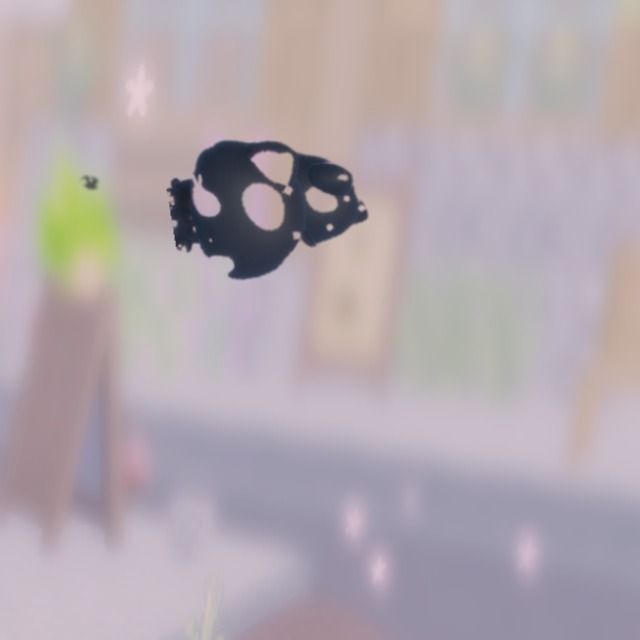urso_preto: (159, 111, 391, 304), (75, 170, 105, 197)
